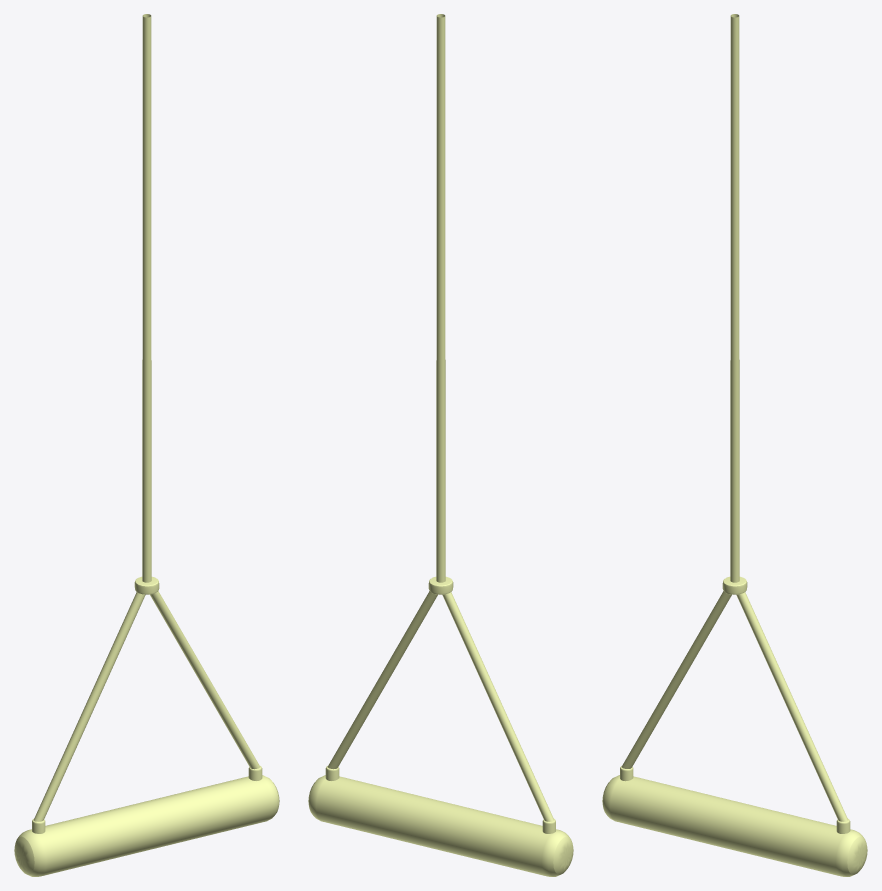
The model's file is Pull_Lever.fbx.
3 renders of one model, left to right at view 1: azimuth 30°, elevation 25°; view 2: azimuth 150°, elevation 25°; view 3: azimuth 330°, elevation 25°, orthographic.
Parts seen in each view (by area): view 1: pull_bar, rope3, rope2, rope1; view 2: pull_bar, rope3, rope2, rope1; view 3: pull_bar, rope3, rope1, rope2.
Boxes of the visible parts, x1=… form: pull_bar: x1=14, y1=775, x2=279, y2=876; rope3: x1=142, y1=14, x2=151, y2=582; rope2: x1=33, y1=592, x2=145, y2=821; rope1: x1=150, y1=591, x2=260, y2=769; pull_bar: x1=308, y1=775, x2=573, y2=876; rope3: x1=436, y1=14, x2=445, y2=582; rope2: x1=442, y1=592, x2=554, y2=821; rope1: x1=327, y1=591, x2=437, y2=769; pull_bar: x1=602, y1=775, x2=867, y2=876; rope3: x1=730, y1=14, x2=739, y2=582; rope1: x1=736, y1=592, x2=847, y2=821; rope2: x1=621, y1=591, x2=731, y2=768.
Bounding box in the file's own units: 0.3241 × 1.02 × 0.0541.
